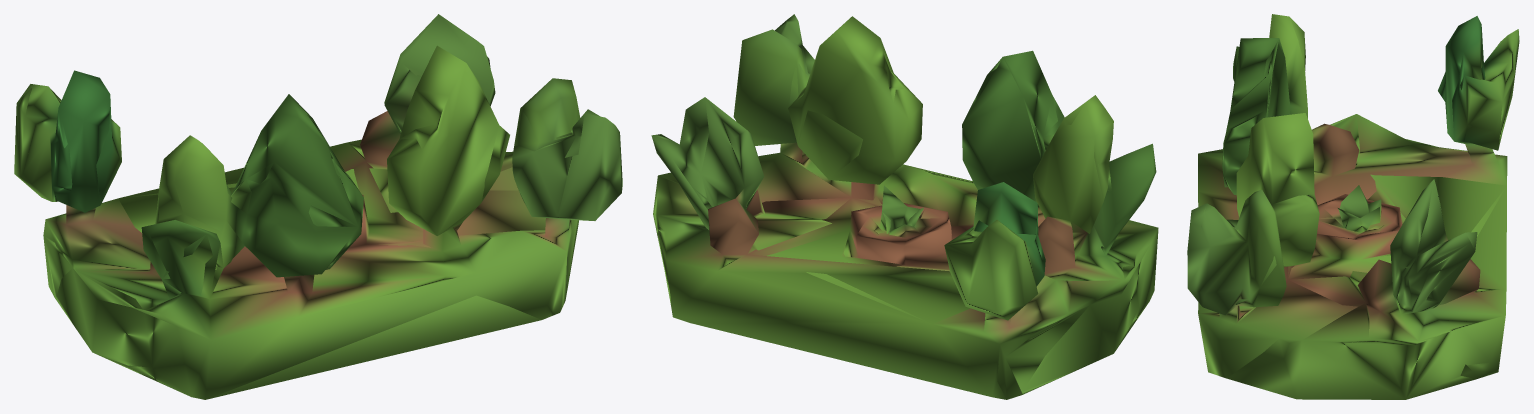
The model's file is gen3d-garden-lod1.glb.
3 renders of one model, left to right at view 1: azimuth 30°, elevation 25°; view 2: azimuth 150°, elevation 25°; view 3: azimuth 270°, elevation 25°, orthographic. The views are drawn at different scales.
Parts seen in each view (by area): view 1: part_0; view 2: part_0; view 3: part_0.
Boxes of the visible parts, bbox=[...] form: part_0: bbox=[14, 14, 622, 399]; part_0: bbox=[651, 14, 1158, 399]; part_0: bbox=[1187, 14, 1519, 399].
Bounding box in the file's own units: 2.01 × 0.9884 × 1.28.
